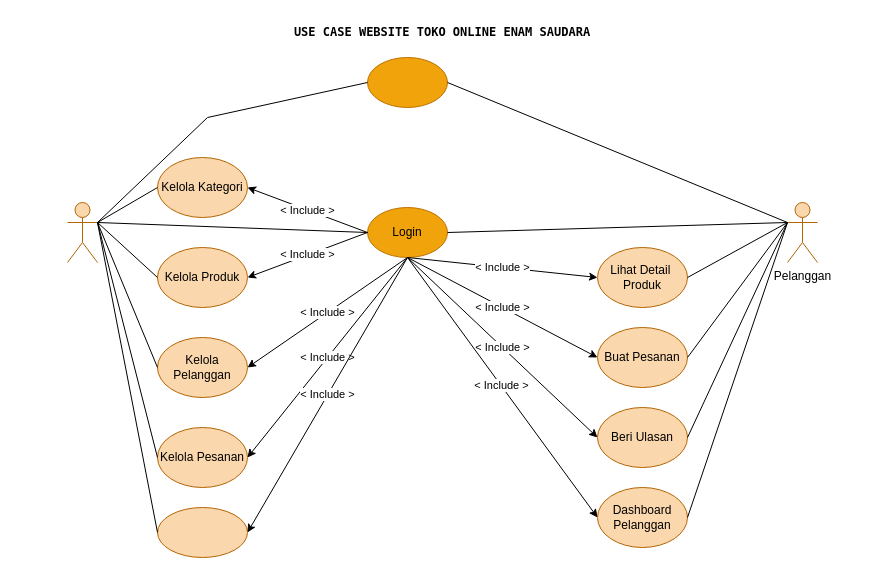
Image size: 884x575. Some labels were removed from this diagram. Here are the shapes that lost their labels. From the top down, the centre of each, then its label:
At pixel 407 82: "Logout".
At pixel 82 232: "Admin".
At pixel 202 532: "Kelola Promo".
